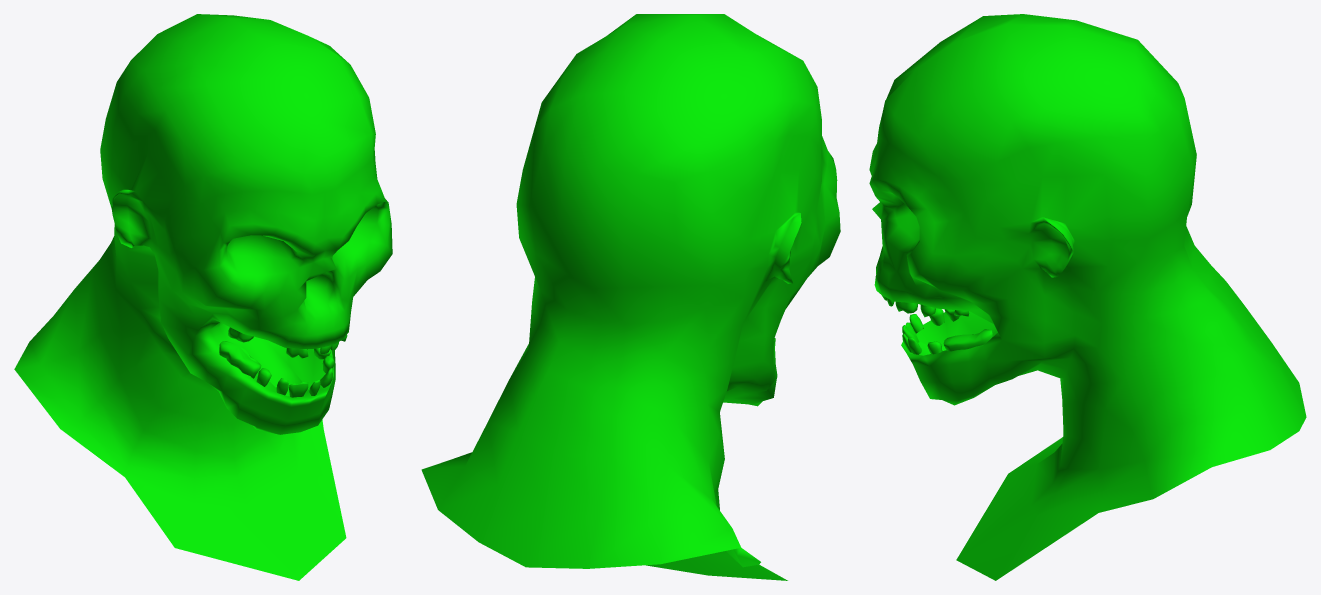
Rendered from Head.fbx.
3 renders of one model, left to right at view 1: azimuth 30°, elevation 25°; view 2: azimuth 150°, elevation 25°; view 3: azimuth 270°, elevation 25°, orthographic. The views are drawn at different scales.
Visible parts, largest first — view 1: head32, head16; view 2: head32; view 3: head32, head30.
Boxes of the visible parts, box(x1,y1,x2,y2) form: head32: box(14, 14, 392, 580); head16: box(219, 341, 261, 378); head32: box(421, 14, 840, 580); head32: box(869, 14, 1306, 580); head30: box(943, 329, 992, 351).
Size of the model in its own units: 20.88 by 36.42 by 27.26.
